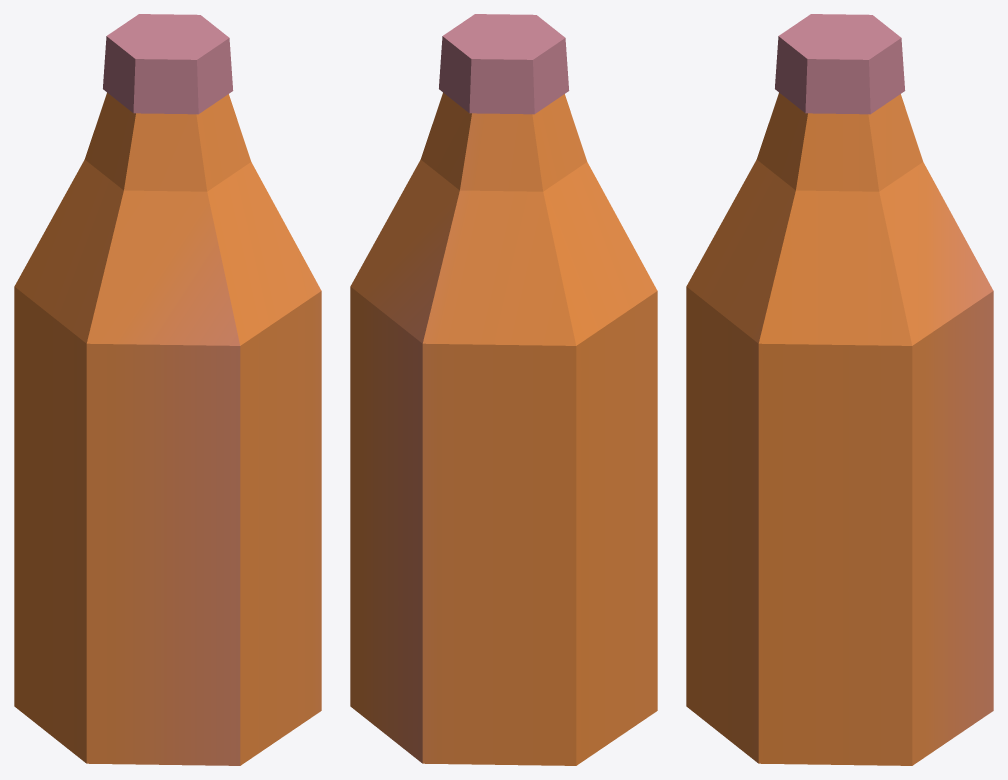
File: Laundry_Bottle4.fbx
3 renders of one model, left to right at view 1: azimuth 30°, elevation 25°; view 2: azimuth 150°, elevation 25°; view 3: azimuth 270°, elevation 25°, orthographic.
Visible parts, largest first — view 1: Laundry_Bottle4; view 2: Laundry_Bottle4; view 3: Laundry_Bottle4.
Part boxes in pixels (x1,y1,x2,y2): Laundry_Bottle4: (14,14,321,765); Laundry_Bottle4: (350,14,657,765); Laundry_Bottle4: (686,14,993,765).
Size of the model in its own units: 9.55 by 26.09 by 10.81.
